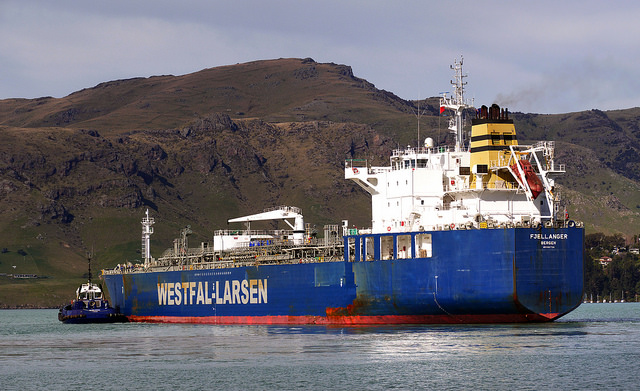tanker: (102, 76, 588, 323)
tug_boat: (57, 250, 111, 331)
